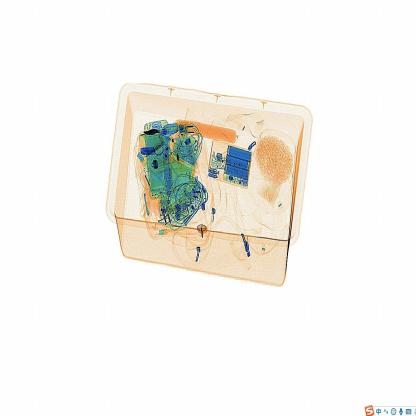wrench: (188, 218, 223, 248)
